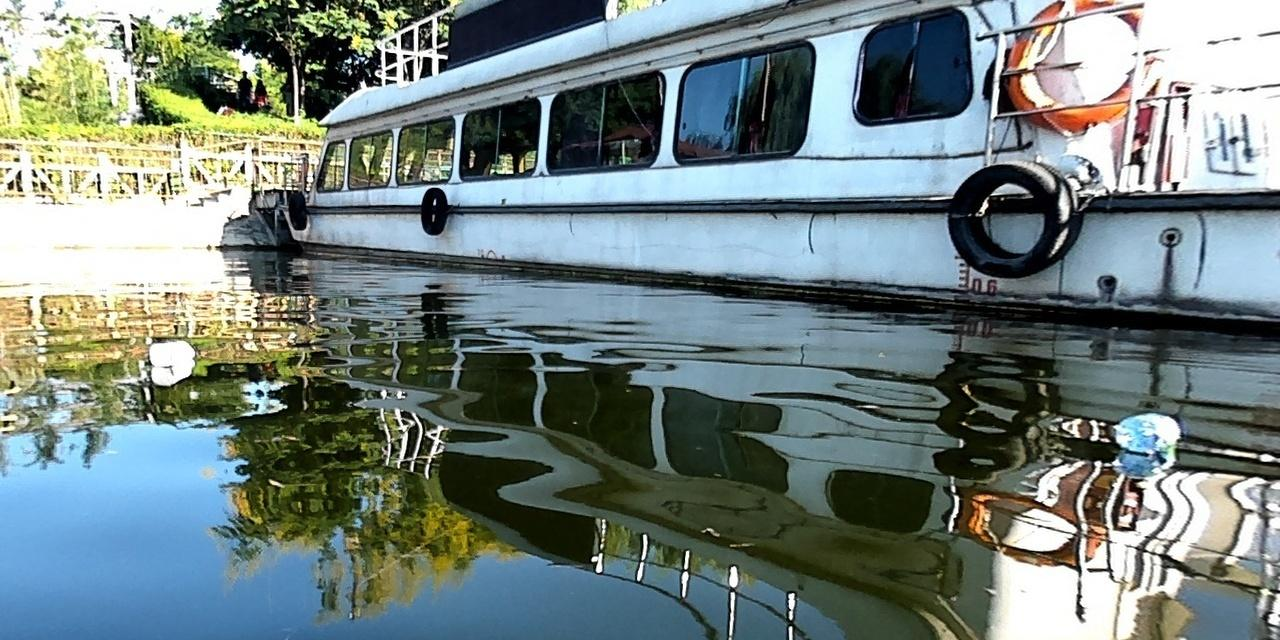bottle: (1103, 411, 1186, 440), (146, 333, 198, 368)
